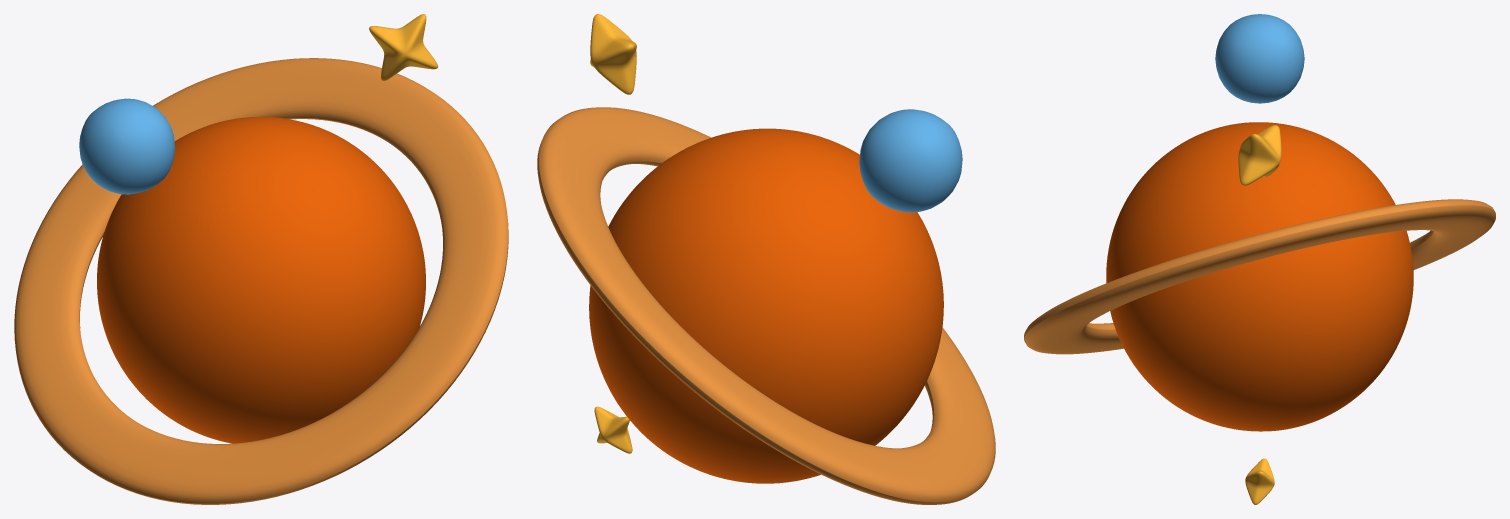
Rendered from planets.glb.
The picture shows the model from 3 angles, left to right: view 1: azimuth 30°, elevation 25°; view 2: azimuth 150°, elevation 25°; view 3: azimuth 270°, elevation 25°; orthographic projection. The views are drawn at different scales.
Visible parts, largest first — view 1: Sphere, Sphere.001, Cube, Plane; view 2: Sphere, Sphere.001, Cube, Plane, Plane.001; view 3: Sphere, Sphere.001, Cube, Plane, Plane.001.
Boxes of the visible parts, x1,y1,x2,y2 form: Sphere: (97,116,425,443); Sphere.001: (14,58,508,504); Cube: (79,98,175,194); Plane: (369,14,438,80); Sphere: (589,128,943,483); Sphere.001: (537,107,995,504); Cube: (859,109,962,212); Plane: (590,14,636,94); Plane.001: (594,406,632,453); Sphere: (1106,122,1413,431); Sphere.001: (1024,199,1495,354); Cube: (1215,14,1304,103); Plane: (1238,125,1281,185); Plane.001: (1245,458,1274,504).
Bounding box in the file's own units: 2.77 × 2.73 × 3.14.
